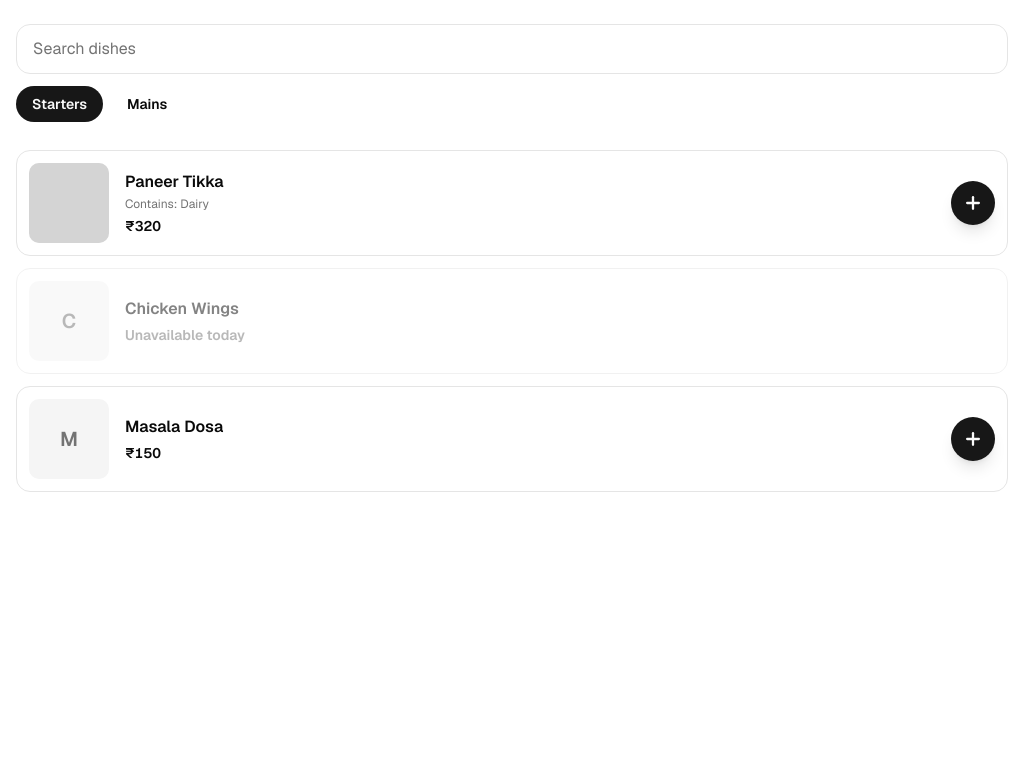
MenuView › the + adds a simple item straight to the cart without opening it
Expected: the element with test id "qr-menu" is shown, top-left (0, 0), bottom-right (1023, 134)
Click the button with test id "qr-menu-add-i1": [973, 203] box top-left (951, 181), bottom-right (995, 225)
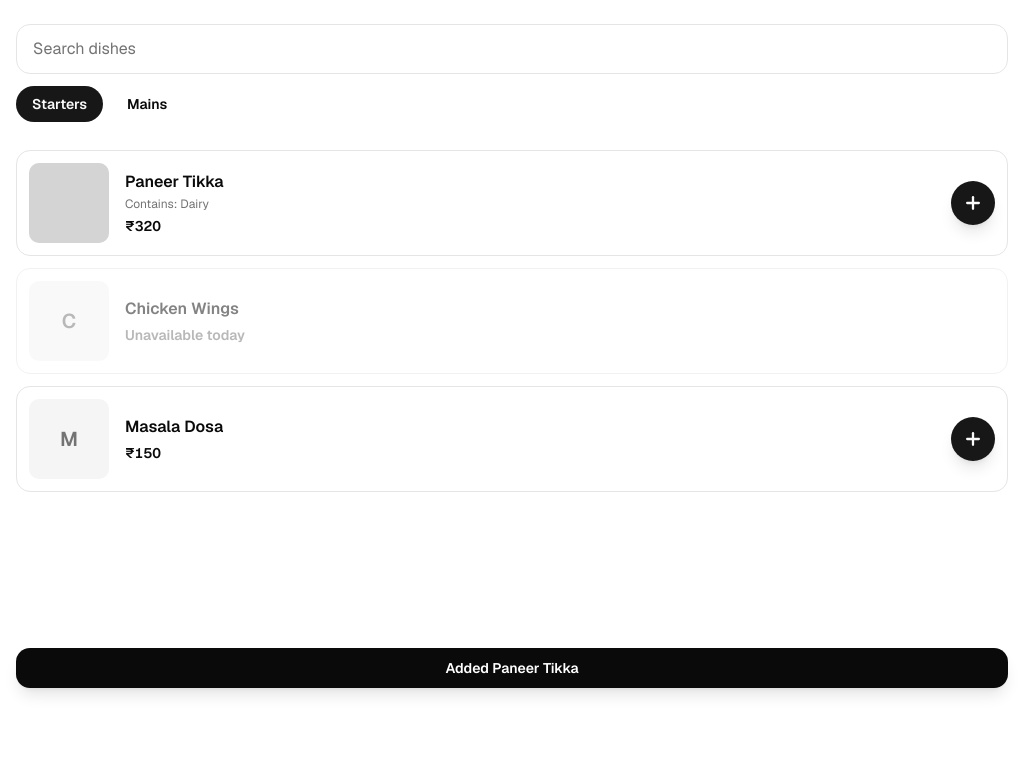
Expected: the message with test id "qr-menu-notice" reads "Added Paneer Tikka", top-left (445, 659), bottom-right (579, 677)
